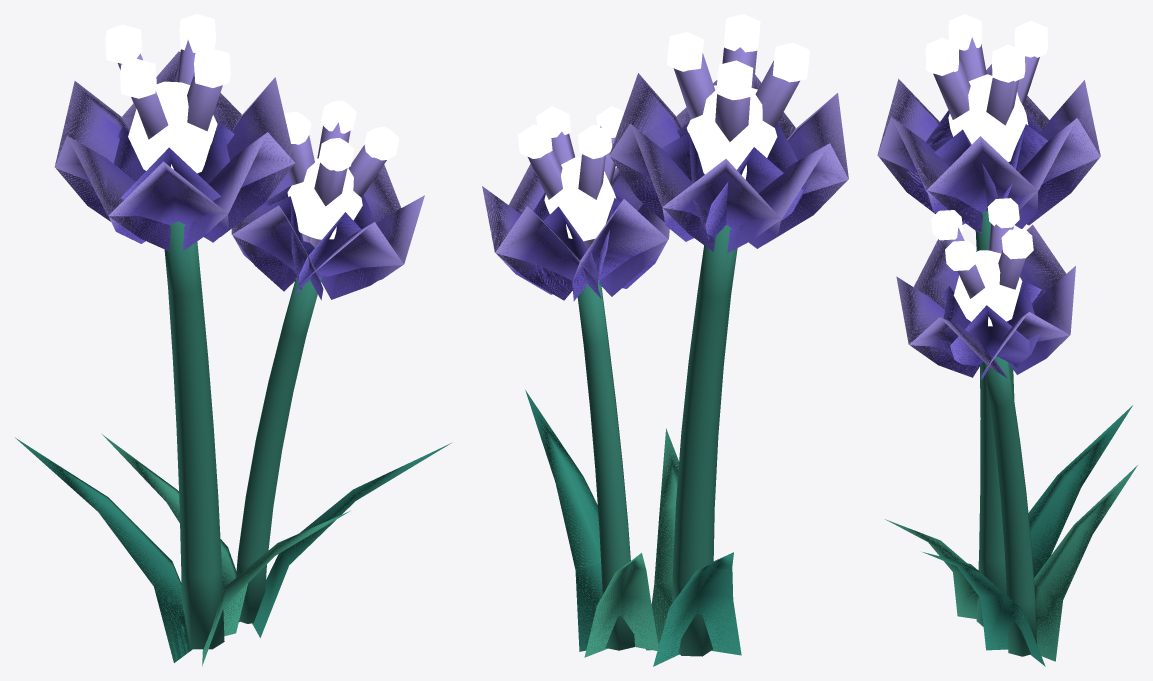
File: verdant_flower_nightbloom.glb
3 renders of one model, left to right at view 1: azimuth 30°, elevation 25°; view 2: azimuth 150°, elevation 25°; view 3: azimuth 270°, elevation 25°, orthographic. The views are drawn at different scales.
Parts seen in each view (by area): view 1: verdant_flower_nightbloom; view 2: verdant_flower_nightbloom; view 3: verdant_flower_nightbloom.
Part boxes in pixels (box(x1,y1,x2,y2)): verdant_flower_nightbloom: box(15, 14, 452, 666); verdant_flower_nightbloom: box(482, 14, 848, 666); verdant_flower_nightbloom: box(877, 14, 1137, 666).
Size of the model in its own units: 0.5664 by 0.985 by 0.399.
